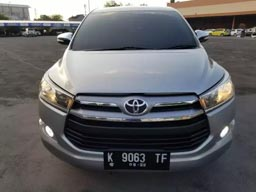plat: (104, 150, 169, 163)
